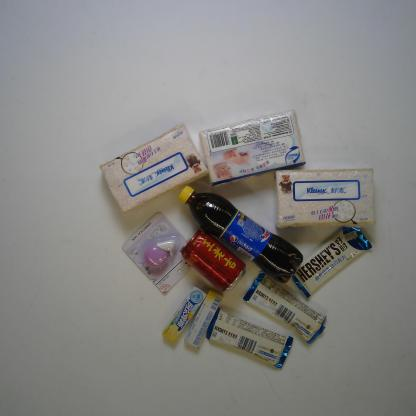Candy: (161, 284, 208, 344), (182, 287, 226, 350)
Chocolate: (240, 270, 330, 346), (291, 224, 374, 300), (204, 306, 296, 369)
Drink: (176, 184, 304, 285), (178, 226, 247, 294)
Stationery: (120, 210, 195, 295)
Tissue: (97, 120, 210, 215), (196, 108, 308, 190), (271, 165, 378, 230)
